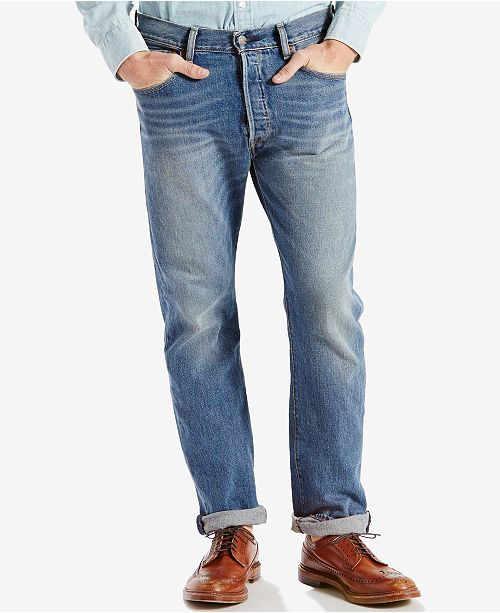Jeans: (120, 10, 376, 540)
